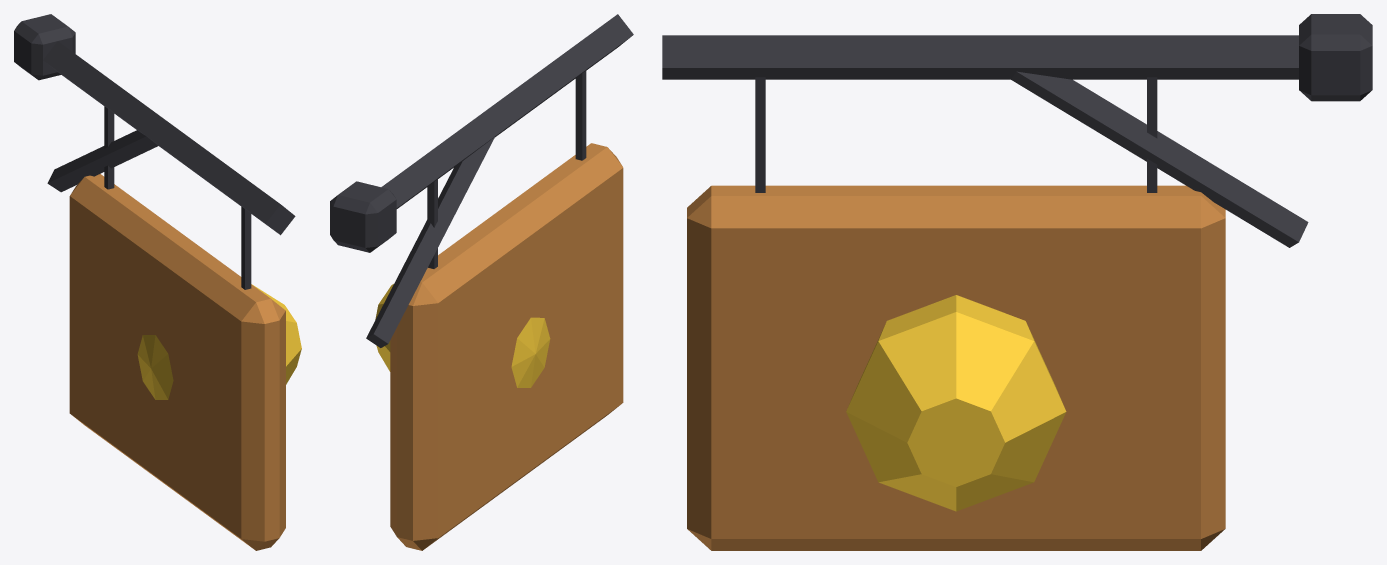
Rendered from HangingSign.fbx.
3 renders of one model, left to right at view 1: azimuth 30°, elevation 25°; view 2: azimuth 150°, elevation 25°; view 3: azimuth 270°, elevation 25°, orthographic. The views are drawn at different scales.
Parts seen in each view (by area): view 1: HangingSign; view 2: HangingSign; view 3: HangingSign.
Boxes of the visible parts, <box> form: HangingSign: <box>14,14,301,550</box>; HangingSign: <box>330,14,633,550</box>; HangingSign: <box>662,14,1372,550</box>.
Size of the model in its own units: 0.9 by 2.35 by 2.9.
Materials: 1 (1 with a texture image).
